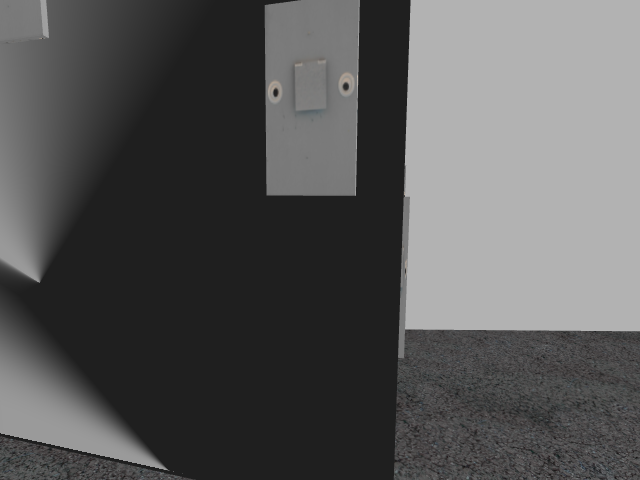facade: (266, 58, 354, 114)
